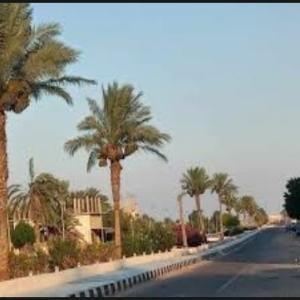palm tree: (0, 2, 96, 281), (64, 80, 171, 258), (180, 165, 210, 240), (208, 172, 236, 238)
